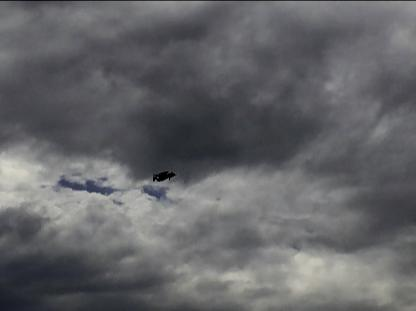C5: (154, 171, 178, 181)
